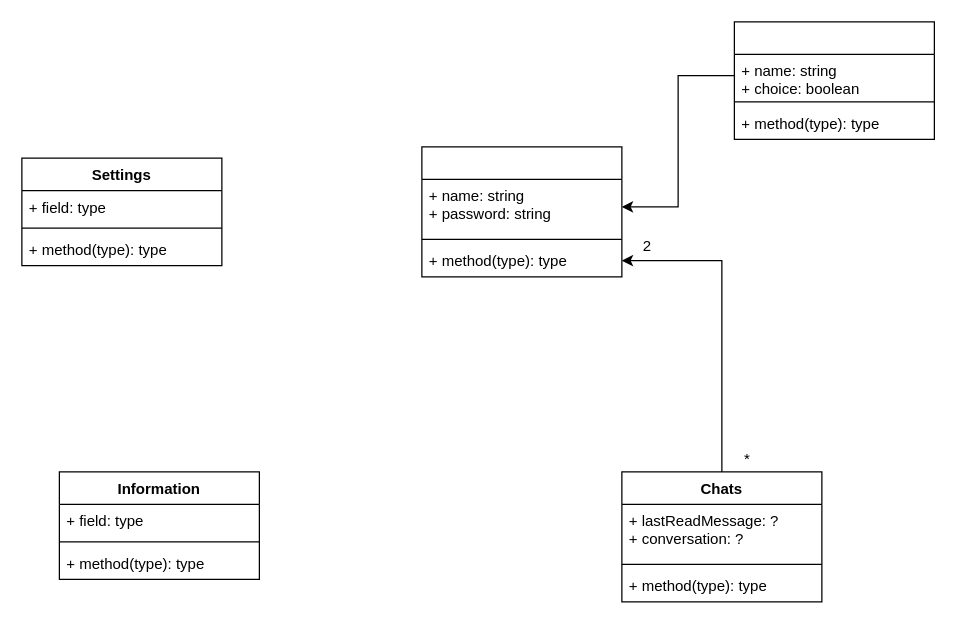
This 956x628 diagram has some shape labels left out. Each missing label, with the box of its shape:
Choices: (733, 21, 934, 139)
User: (421, 146, 622, 277)
